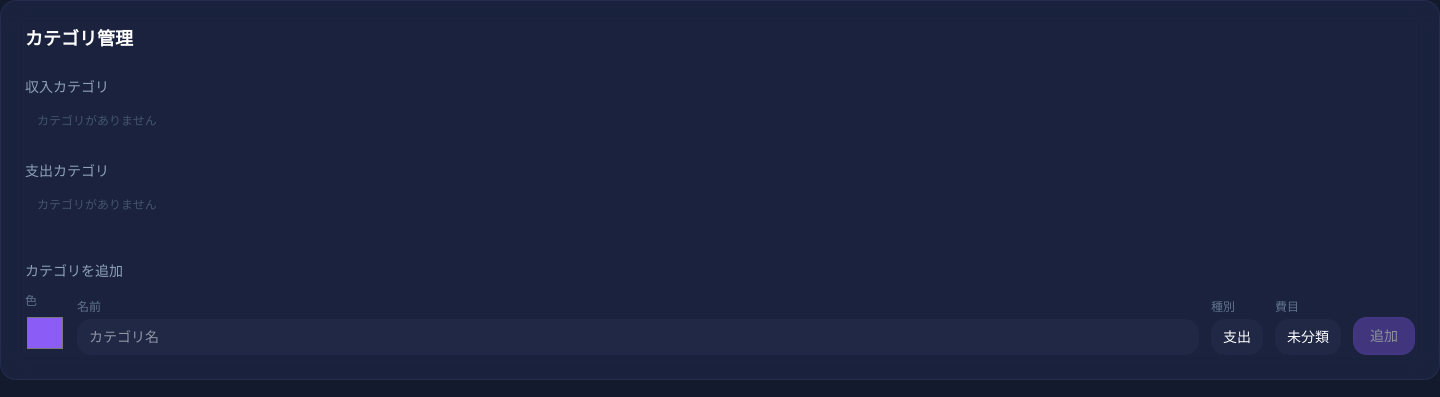
it: 固定費 / 変動費 › offers the classification for expenses only
The image size is (1440, 397).
Expected: the dropdown labelled "費目" is shown, [1275,319,1341,355]
Select "収入" in the dropdown labelled "種別": coordinates (1237, 337) [1211,319,1263,355]
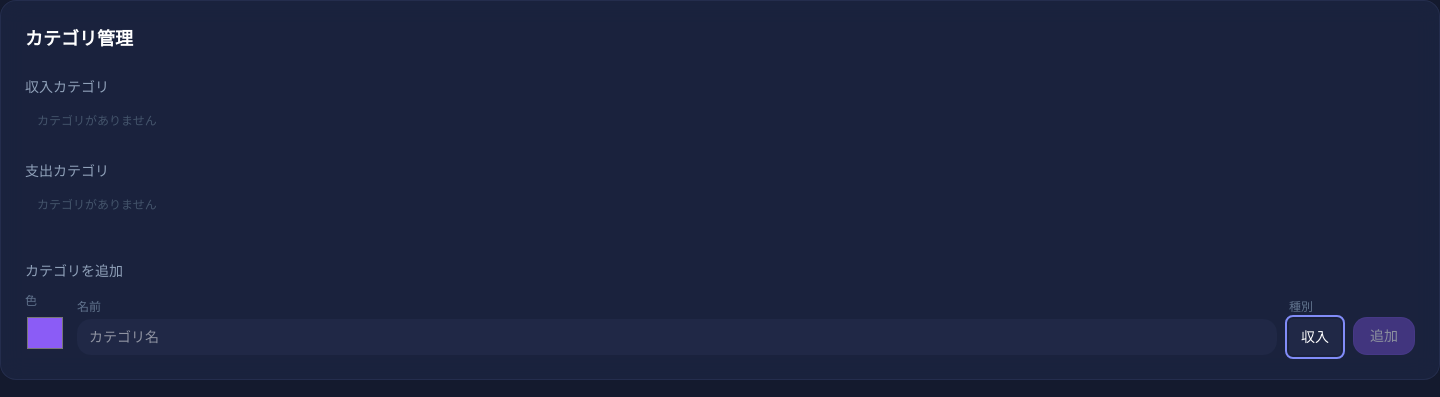
Result: the label labelled "費目" is gone
